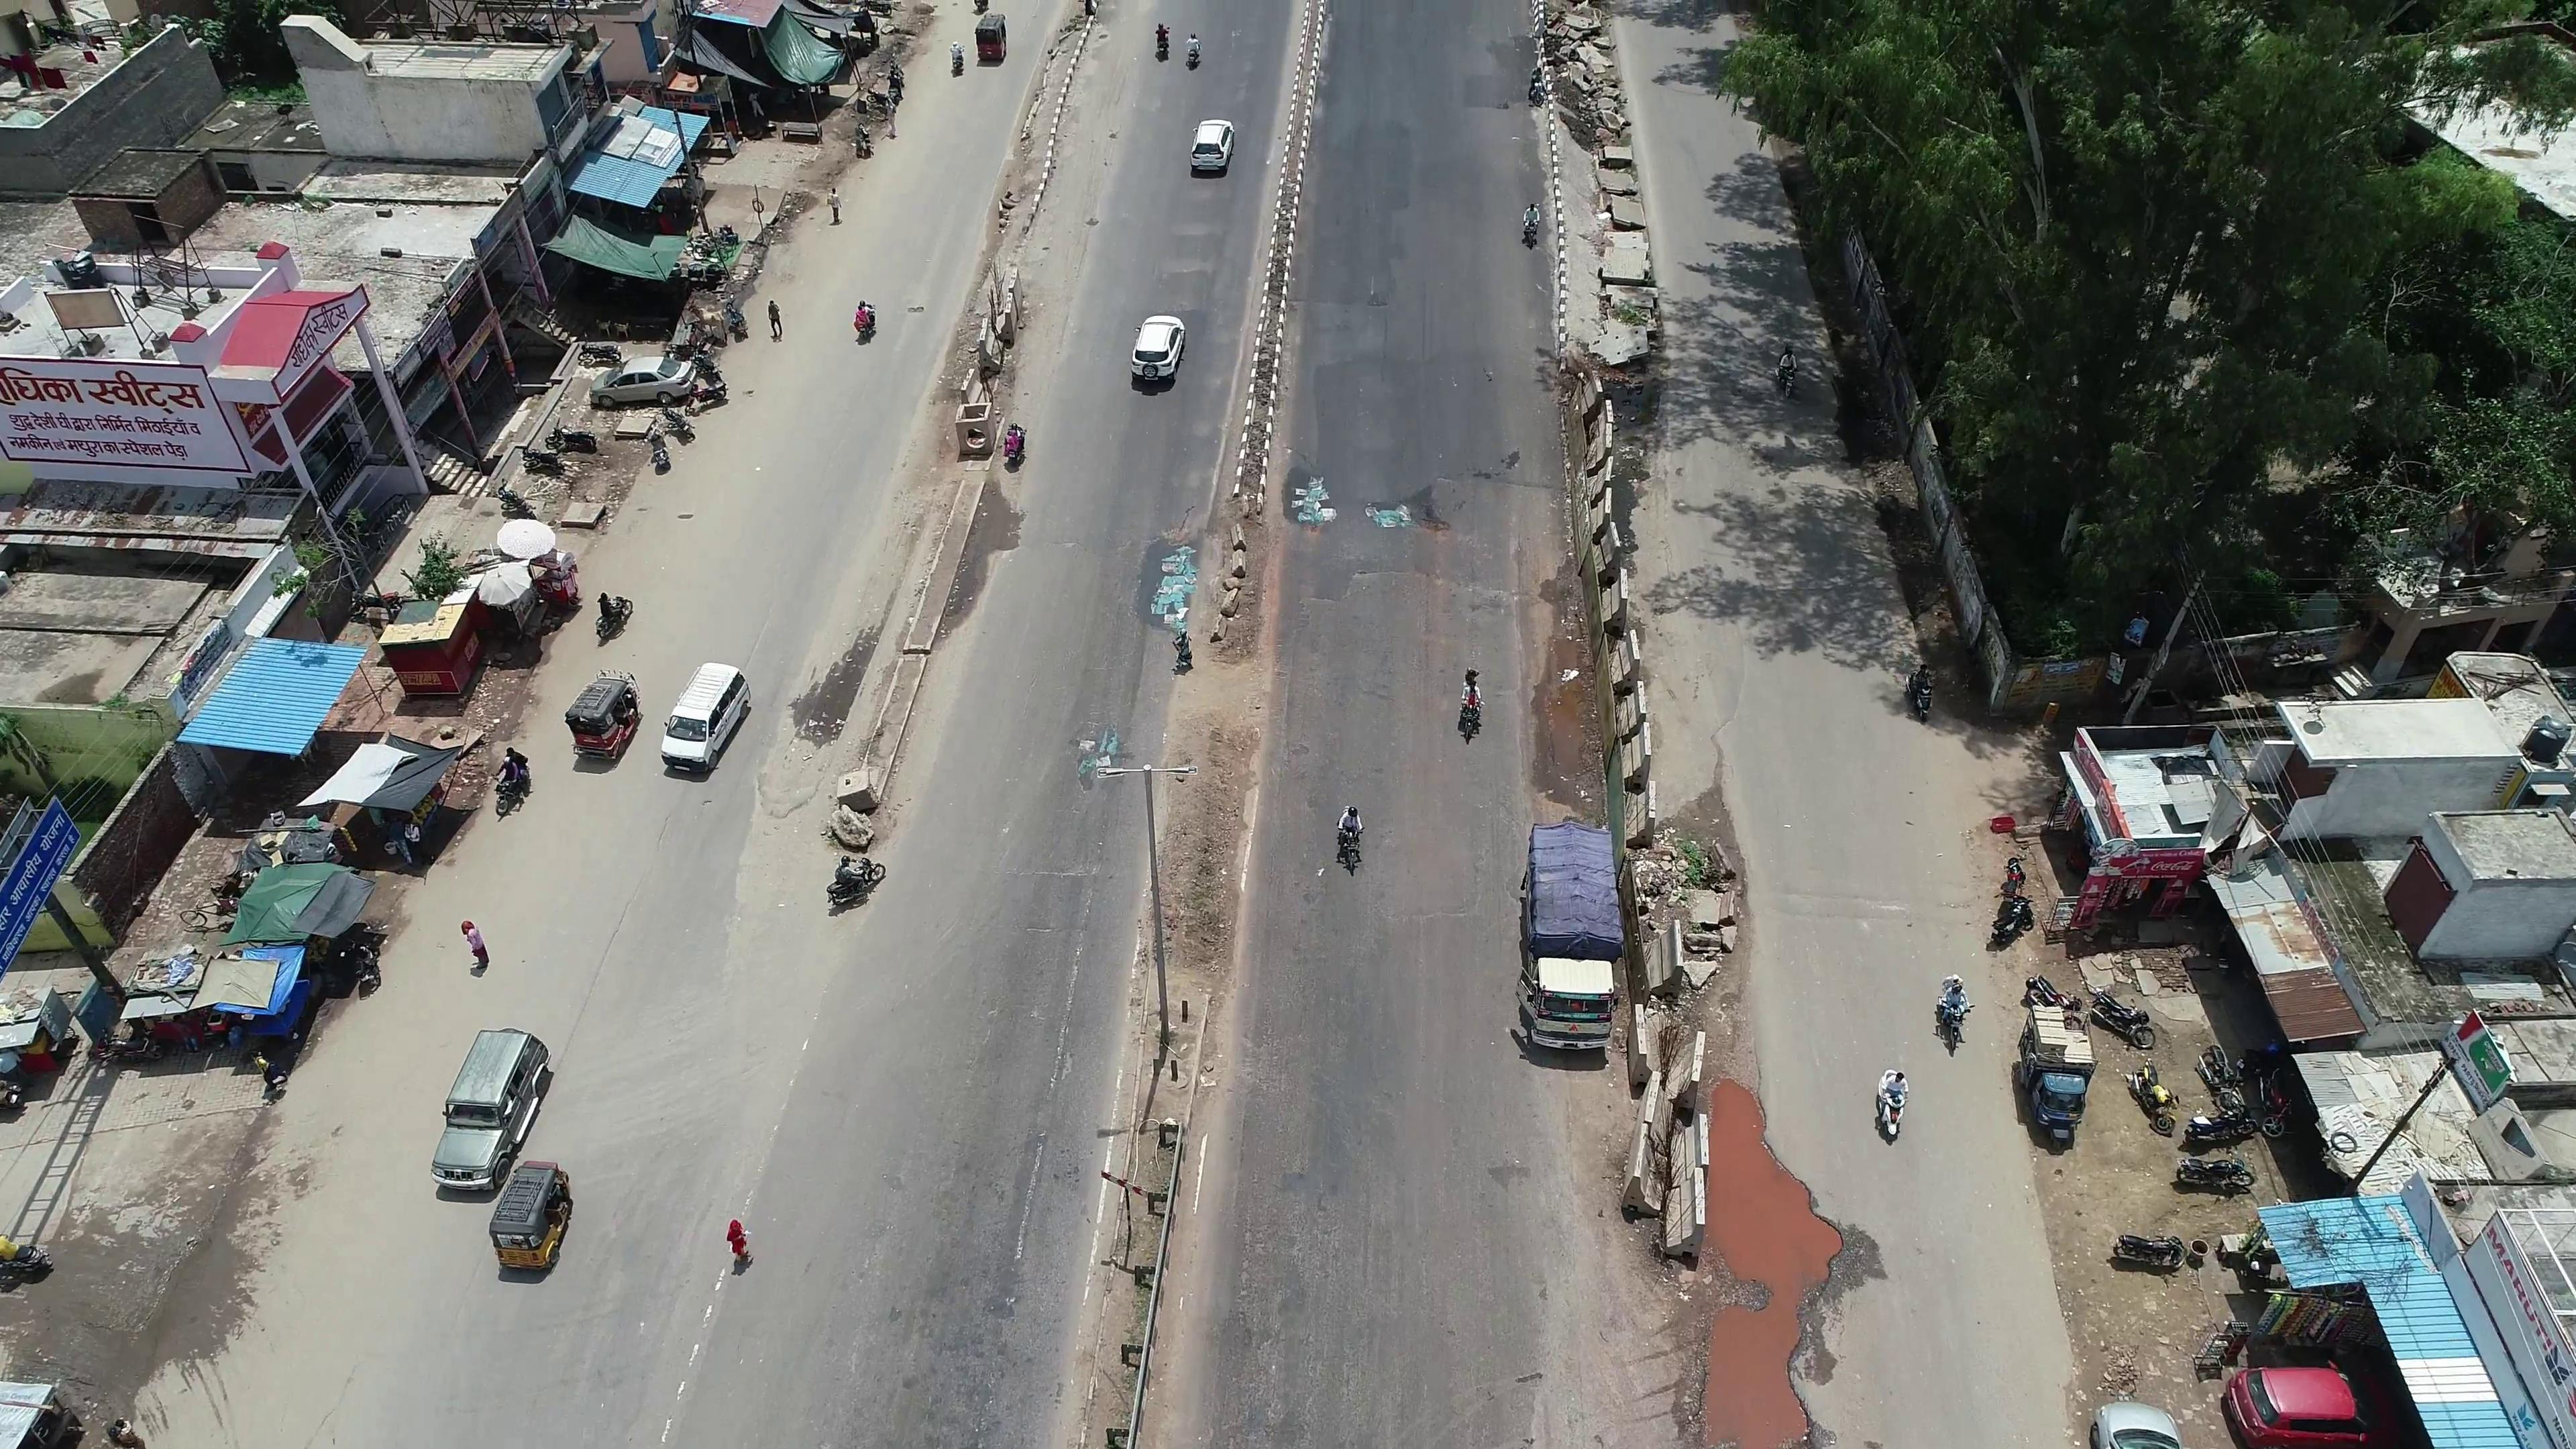Potholes: (1695, 1169, 1849, 1444)
